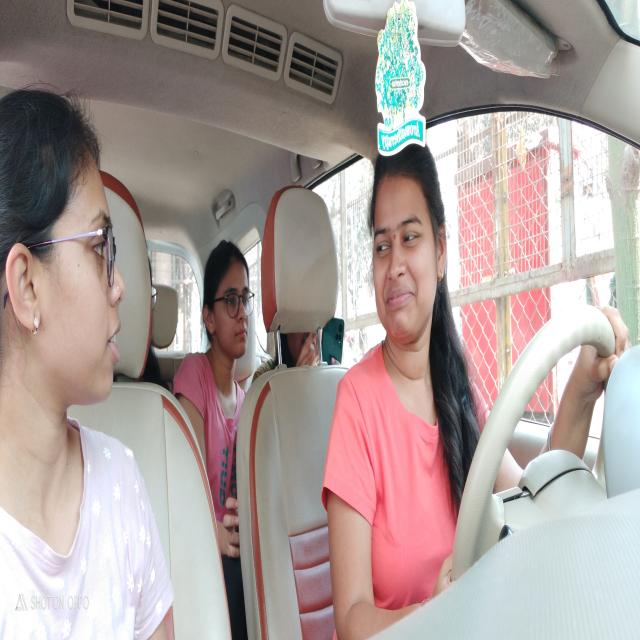LeftRight: (372, 155, 448, 350)
person: (1, 81, 126, 403), (201, 237, 253, 360), (284, 327, 320, 369)
